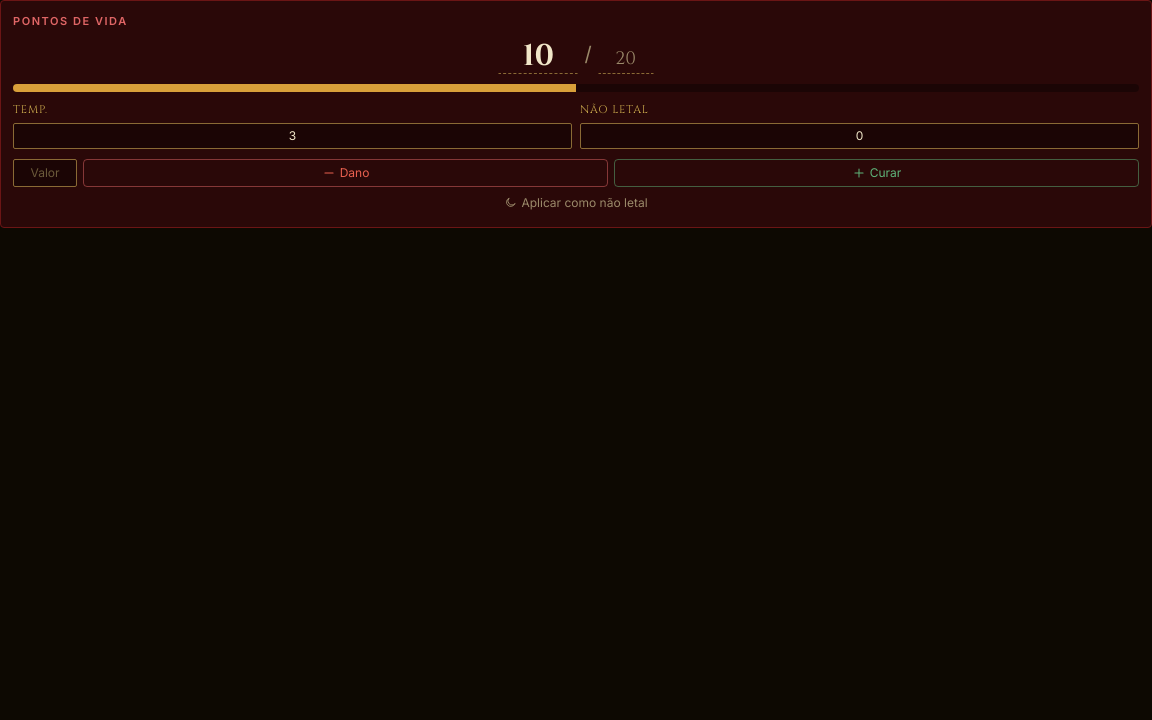
HpTracker › dano consome temporários e "Desfazer" devolve os valores anteriores
This screenshot has width=1152, height=720.
In the field labelled "Valor": point(45, 172) [13, 158, 77, 186], type "5"
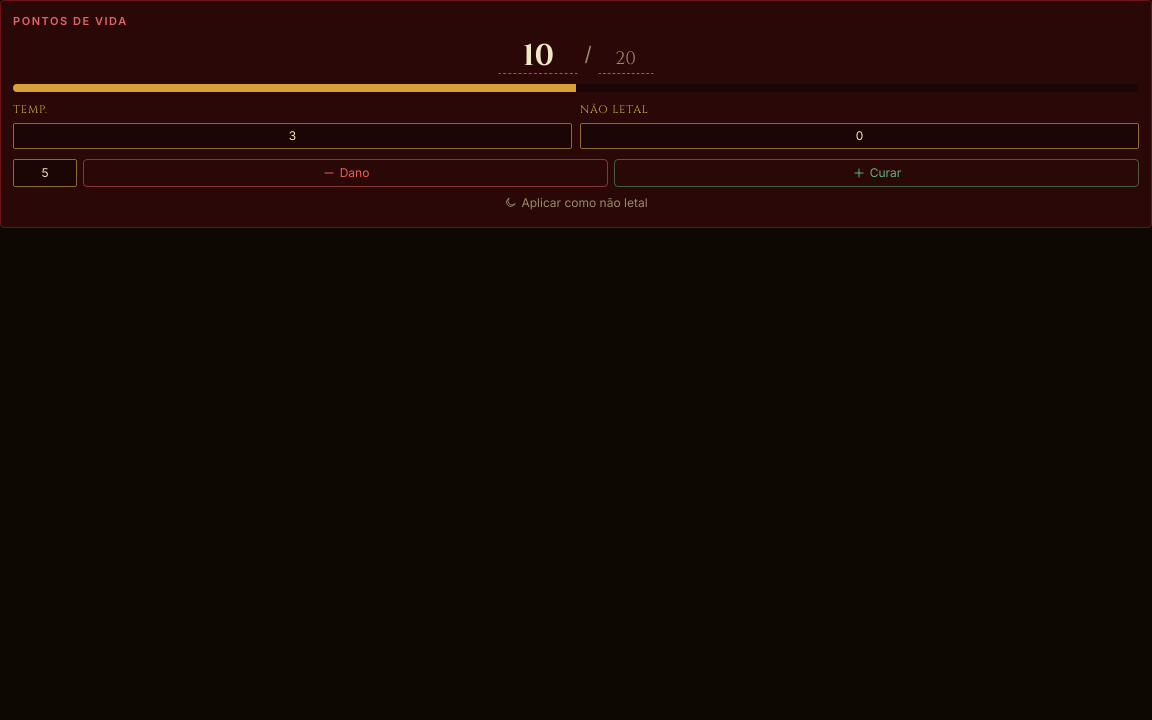
Click the button "Dano": point(346, 172) [83, 158, 608, 186]
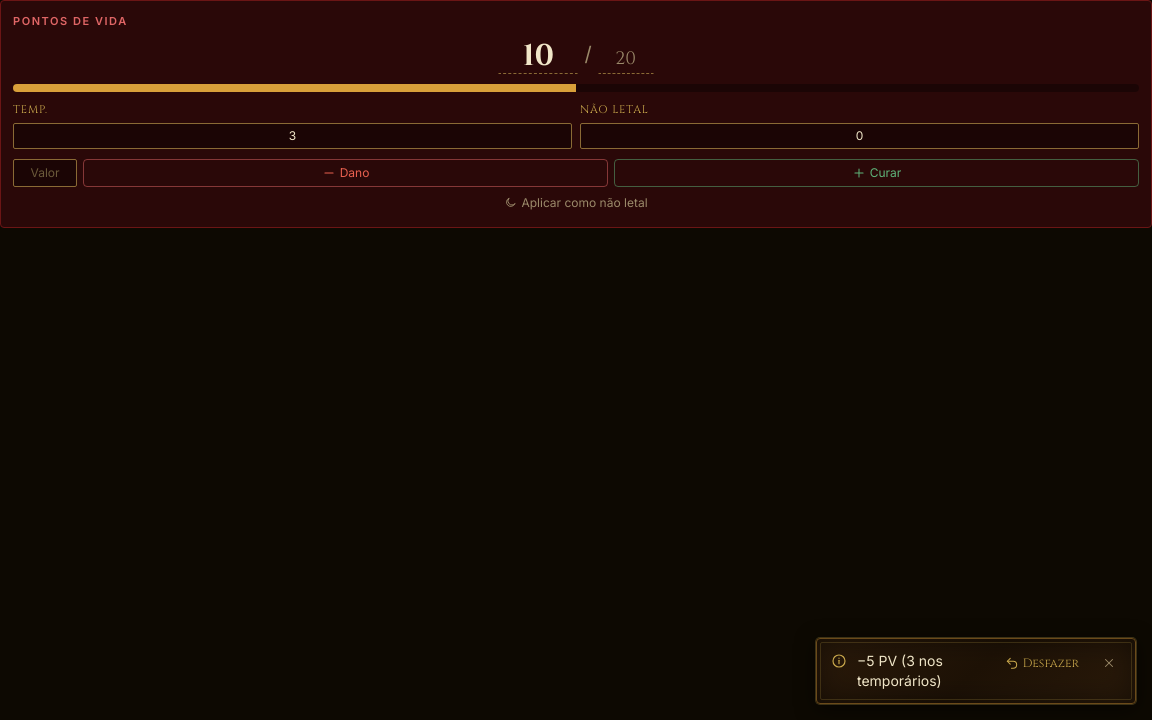
Result: the text "−5 PV (3 nos temporários)" is shown at [857, 652, 943, 689]
Note: o componente não recebeu o ch novo (sem servidor): os PV "mudaram depois" → desfazer é recusado
Click the button "Desfazer": point(1042, 663) [997, 651, 1087, 675]
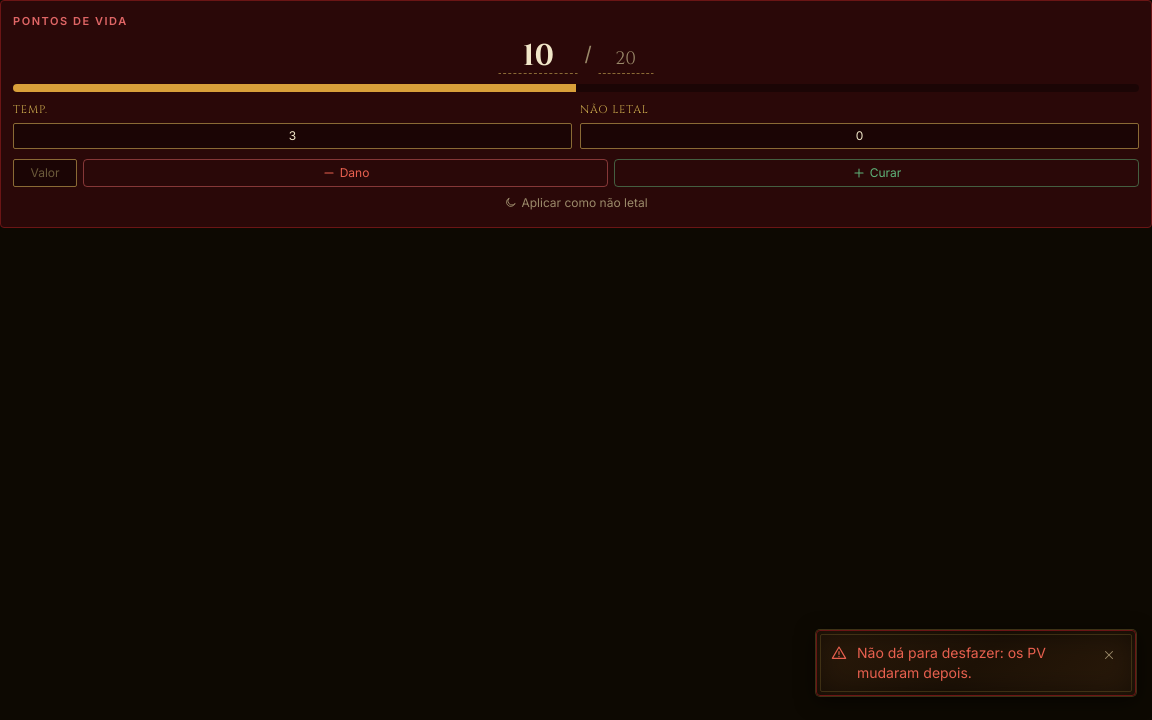
Result: the text "Não dá para desfazer: os PV mudaram depois." is shown at [857, 644, 1046, 681]
